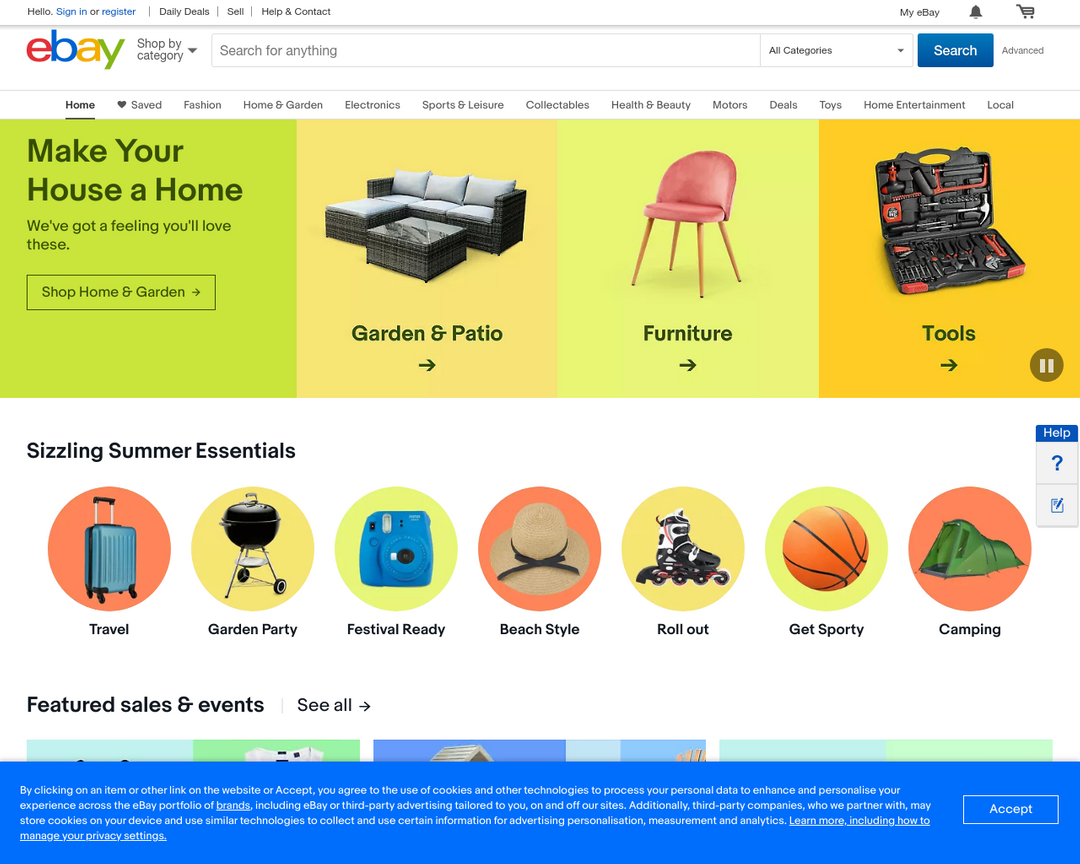Ebay: (21, 28, 129, 74)
